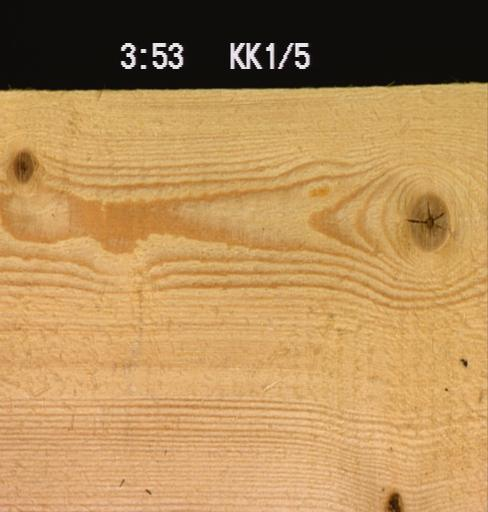edge_knot: (383, 489, 405, 511)
sound_knot: (403, 190, 451, 252), (9, 145, 37, 184)
